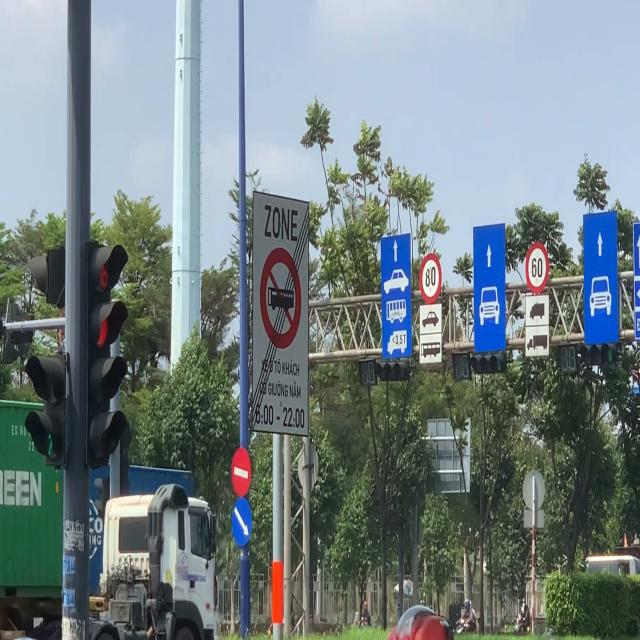Cam con lai: (260, 246, 301, 350)
Cam nguoc chieu: (231, 447, 252, 498)
Hieu lenh: (231, 496, 252, 548)
Toc do toi da: (525, 241, 550, 294), (419, 252, 442, 304)
